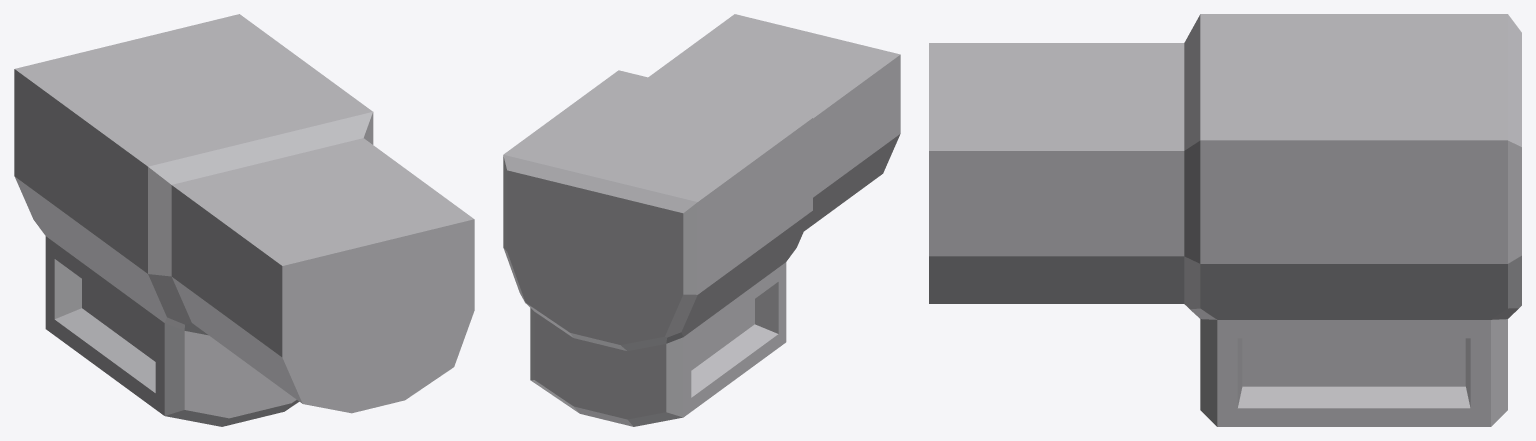
The model's file is Personal_Vehicle_04_Central_Hub.fbx.
The picture shows the model from 3 angles, left to right: view 1: azimuth 30°, elevation 25°; view 2: azimuth 150°, elevation 25°; view 3: azimuth 270°, elevation 25°; orthographic projection. The views are drawn at different scales.
Parts seen in each view (by area): view 1: Personal_Vehicle_04_Central_Hub; view 2: Personal_Vehicle_04_Central_Hub; view 3: Personal_Vehicle_04_Central_Hub.
Part boxes in pixels (x1=…): Personal_Vehicle_04_Central_Hub: x1=14, y1=14, x2=474, y2=426; Personal_Vehicle_04_Central_Hub: x1=503, y1=14, x2=900, y2=426; Personal_Vehicle_04_Central_Hub: x1=929, y1=14, x2=1521, y2=426.
Size of the model in its own units: 45.36 by 54.97 by 89.88.
1 material, 1 textured.
